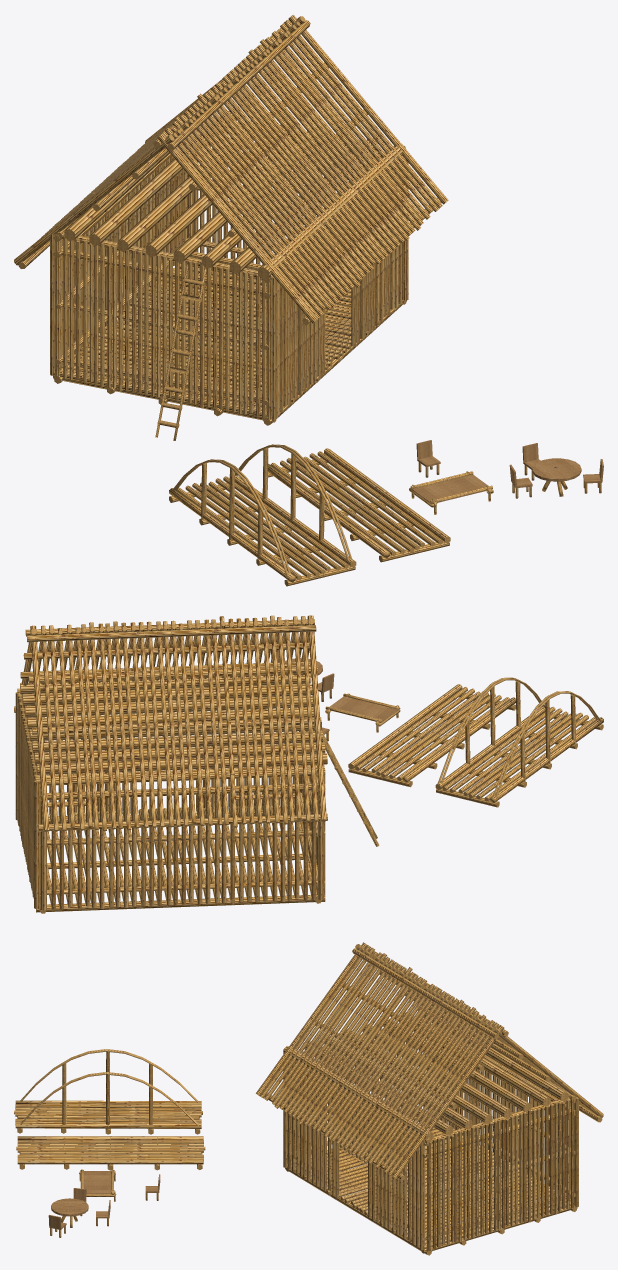
Rendered from Bamboo Scene.FBX.
3 renders of one model, top to bottom at view 1: azimuth 30°, elevation 25°; view 2: azimuth 150°, elevation 25°; view 3: azimuth 270°, elevation 25°, orthographic. The views are drawn at different scales.
Parts seen in each view (by area): view 1: Hut, Bridge_Walkway, Cylinder122, Cylinder123, Bed, Table; view 2: Hut, Bridge_Walkway, Cylinder122, Bed, Cylinder123; view 3: Hut, Bridge_Walkway, Cylinder122, Bed, Table.
Part boxes in pixels (x1,y1,x2,y2): Hut: (14, 14, 448, 425); Bridge_Walkway: (169, 444, 356, 586); Cylinder122: (268, 448, 450, 562); Cylinder123: (155, 265, 206, 440); Bed: (409, 471, 493, 514); Table: (532, 458, 581, 496); Hut: (14, 615, 327, 913); Bridge_Walkway: (435, 677, 603, 807); Cylinder122: (348, 684, 515, 787); Bed: (325, 693, 400, 732); Cylinder123: (321, 729, 379, 846); Hut: (256, 942, 603, 1255); Bridge_Walkway: (14, 1049, 202, 1134); Cylinder122: (16, 1136, 205, 1170); Bed: (79, 1169, 116, 1201); Table: (51, 1198, 88, 1227).
Size of what is drawn, in the model's own units: 321 by 204 by 524.
Materials: 4 (4 with a texture image).
